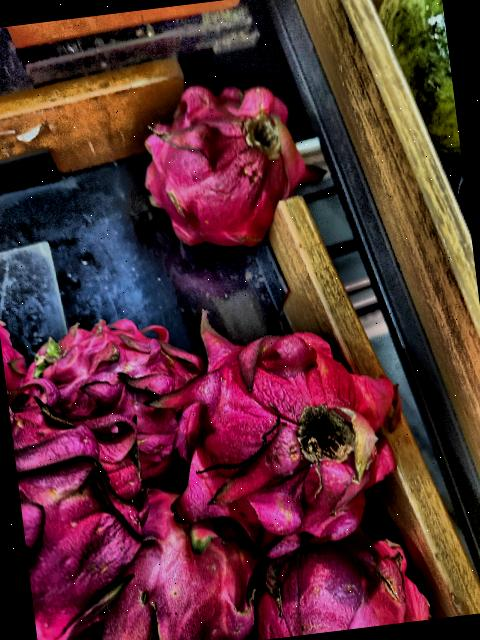buah-naga-matang: (158, 302, 396, 544), (5, 357, 164, 640), (123, 76, 312, 245), (22, 308, 203, 484), (74, 502, 262, 640), (243, 524, 449, 640)
